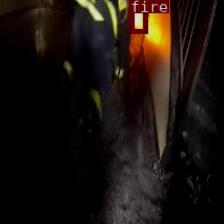fire: (129, 0, 146, 33)
